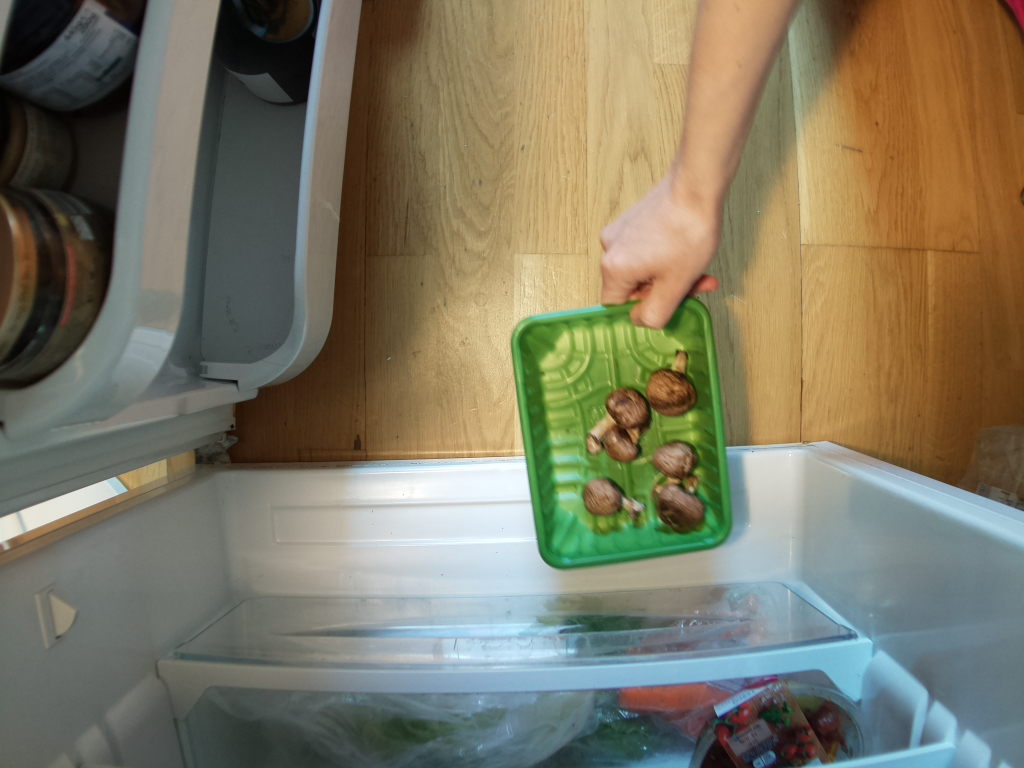mushrooms-bad: (511, 300, 741, 574)
